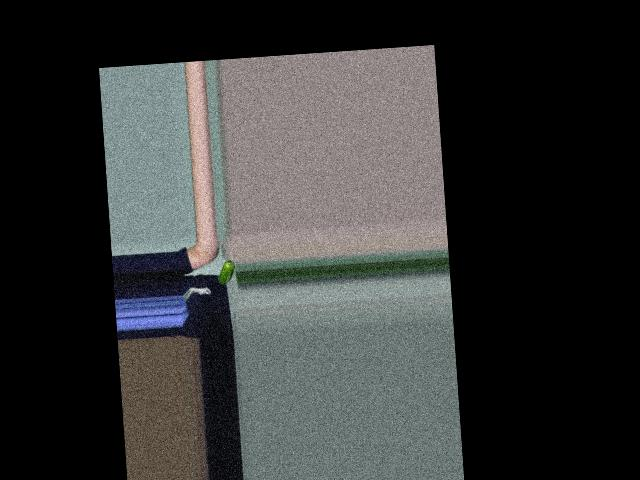cucumber: (217, 259, 236, 284)
